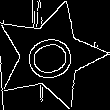O_E: (17, 26, 82, 85)
